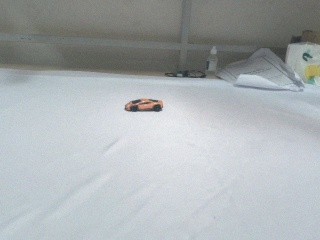toy_car: (124, 98, 163, 112)
